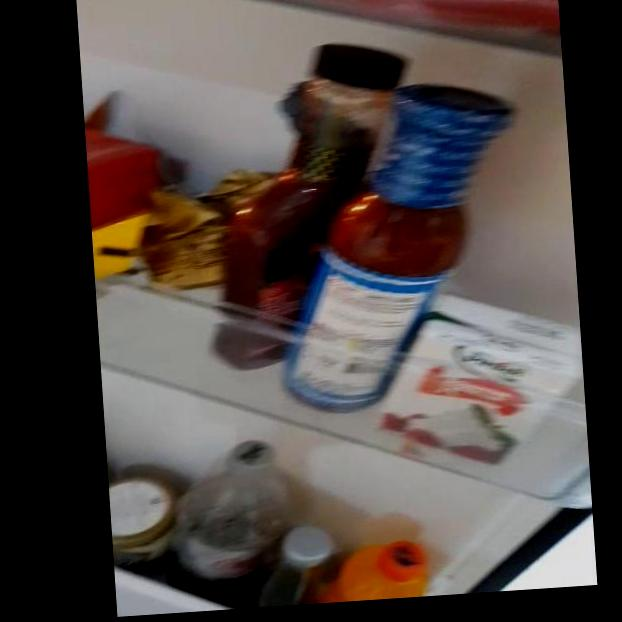cream: (398, 311, 543, 464)
sauce: (216, 52, 411, 358), (330, 93, 504, 311)
